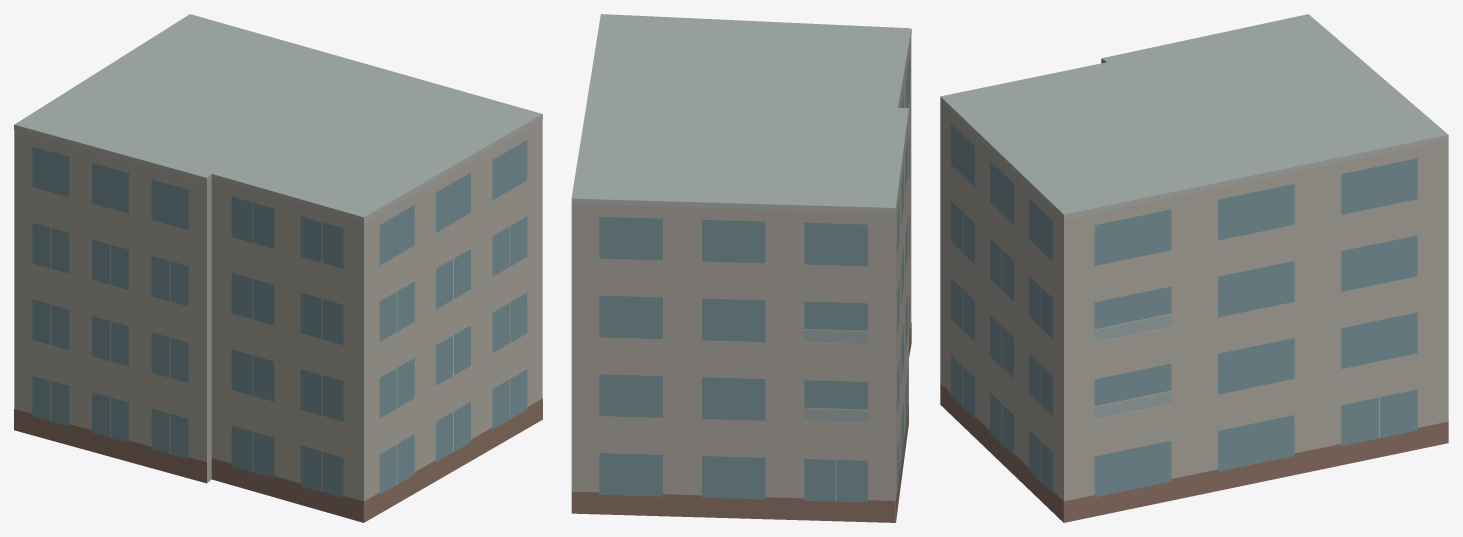
File: survey-upis-32780519.glb
3 renders of one model, left to right at view 1: azimuth 30°, elevation 25°; view 2: azimuth 150°, elevation 25°; view 3: azimuth 270°, elevation 25°, orthographic. The views are drawn at different scales.
Parts seen in each view (by area): view 1: survey-upis-32780519.tmp; view 2: survey-upis-32780519.tmp; view 3: survey-upis-32780519.tmp.
Boxes of the visible parts, x1,y1,x2,y2 form: survey-upis-32780519.tmp: [14, 14, 542, 522]; survey-upis-32780519.tmp: [571, 14, 911, 522]; survey-upis-32780519.tmp: [940, 14, 1448, 522].
Bounding box in the file's own units: 20.1 × 14.4 × 21.52.
